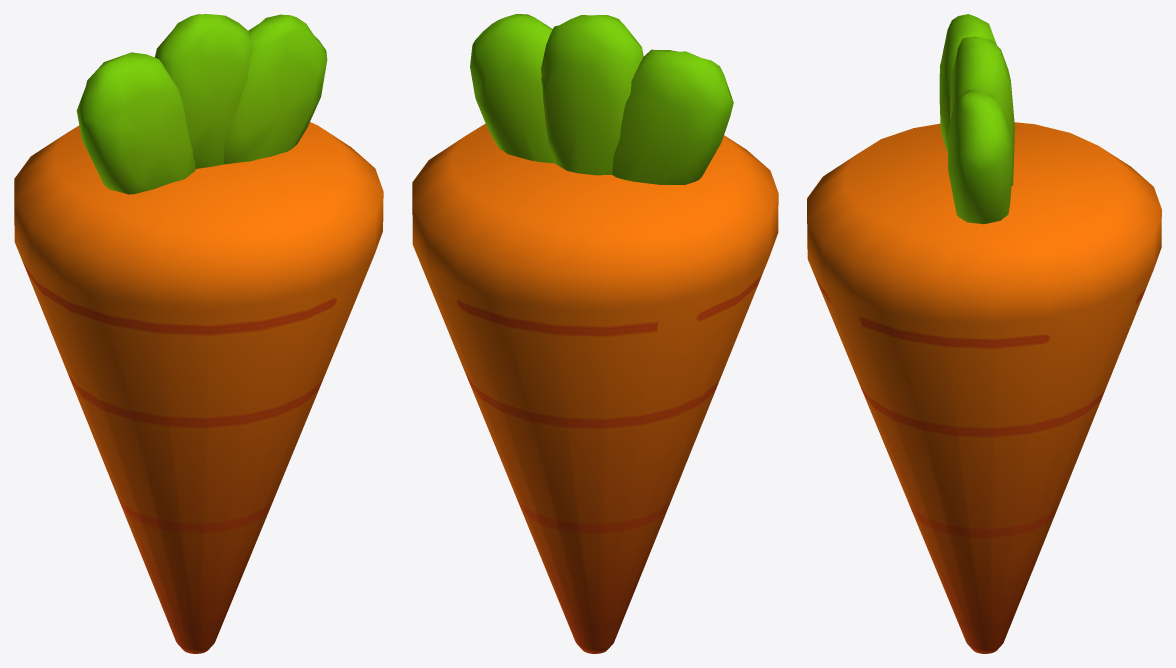
File: orange_carrot.glb
3 views of the same model, side by side, from view 1: azimuth 30°, elevation 25°; view 2: azimuth 150°, elevation 25°; view 3: azimuth 270°, elevation 25° (orthographic). The views are drawn at different scales.
Parts seen in each view (by area): view 1: orange_carrot; view 2: orange_carrot; view 3: orange_carrot.
Part boxes in pixels (x1,y1,x2,y2): orange_carrot: [14, 14, 383, 653]; orange_carrot: [412, 14, 778, 653]; orange_carrot: [807, 14, 1161, 653].
Size of the model in its own units: 0.2772 by 0.5262 by 0.2764.
1 material, 1 textured.
